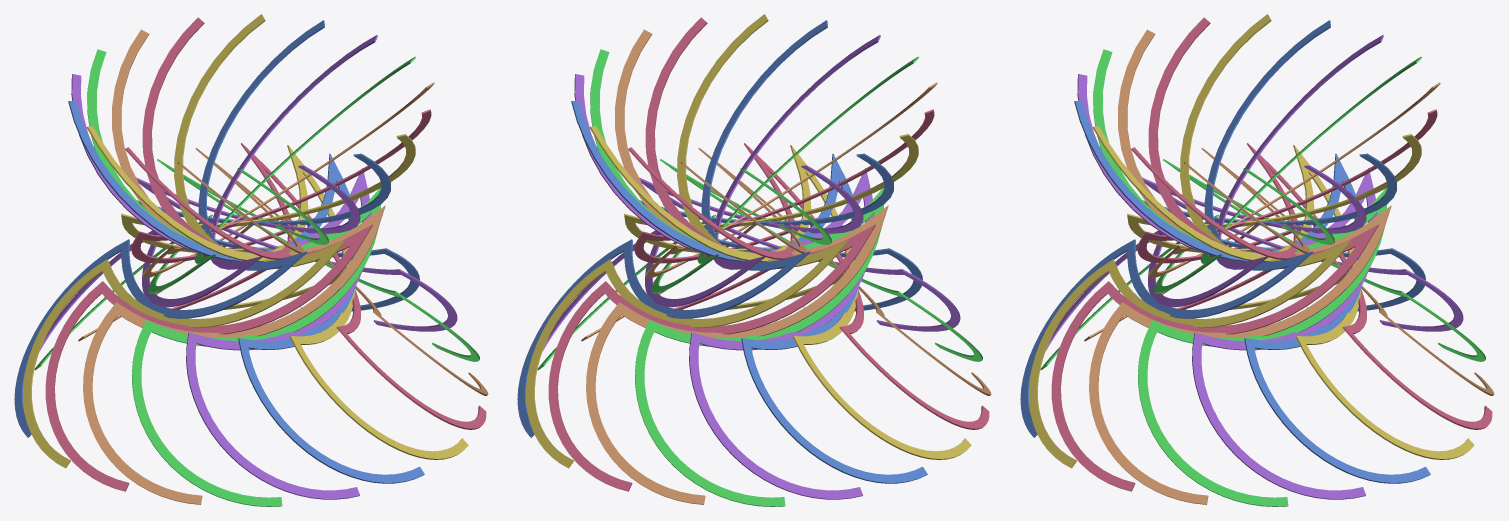
File: cvetok.fbx
3 views of the same model, side by side, from view 1: azimuth 30°, elevation 25°; view 2: azimuth 150°, elevation 25°; view 3: azimuth 270°, elevation 25° (orthographic).
Parts seen in each view (by area): view 1: Arc0010; view 2: Arc0010; view 3: Arc0010.
Boxes of the visible parts, bbox=[...] form: Arc0010: bbox=[14, 14, 488, 506]; Arc0010: bbox=[517, 14, 991, 506]; Arc0010: bbox=[1020, 14, 1494, 506].
Size of the model in its own units: 5.8 by 4.28 by 5.8.
